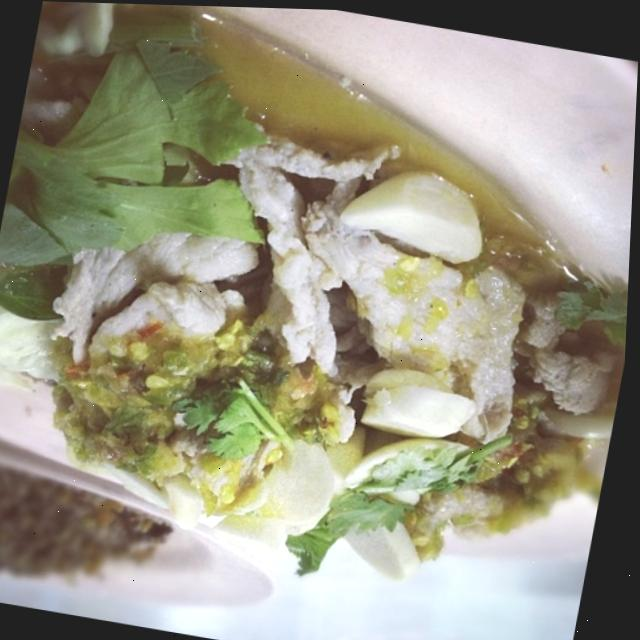猪肉菜式: (0, 0, 640, 624)
